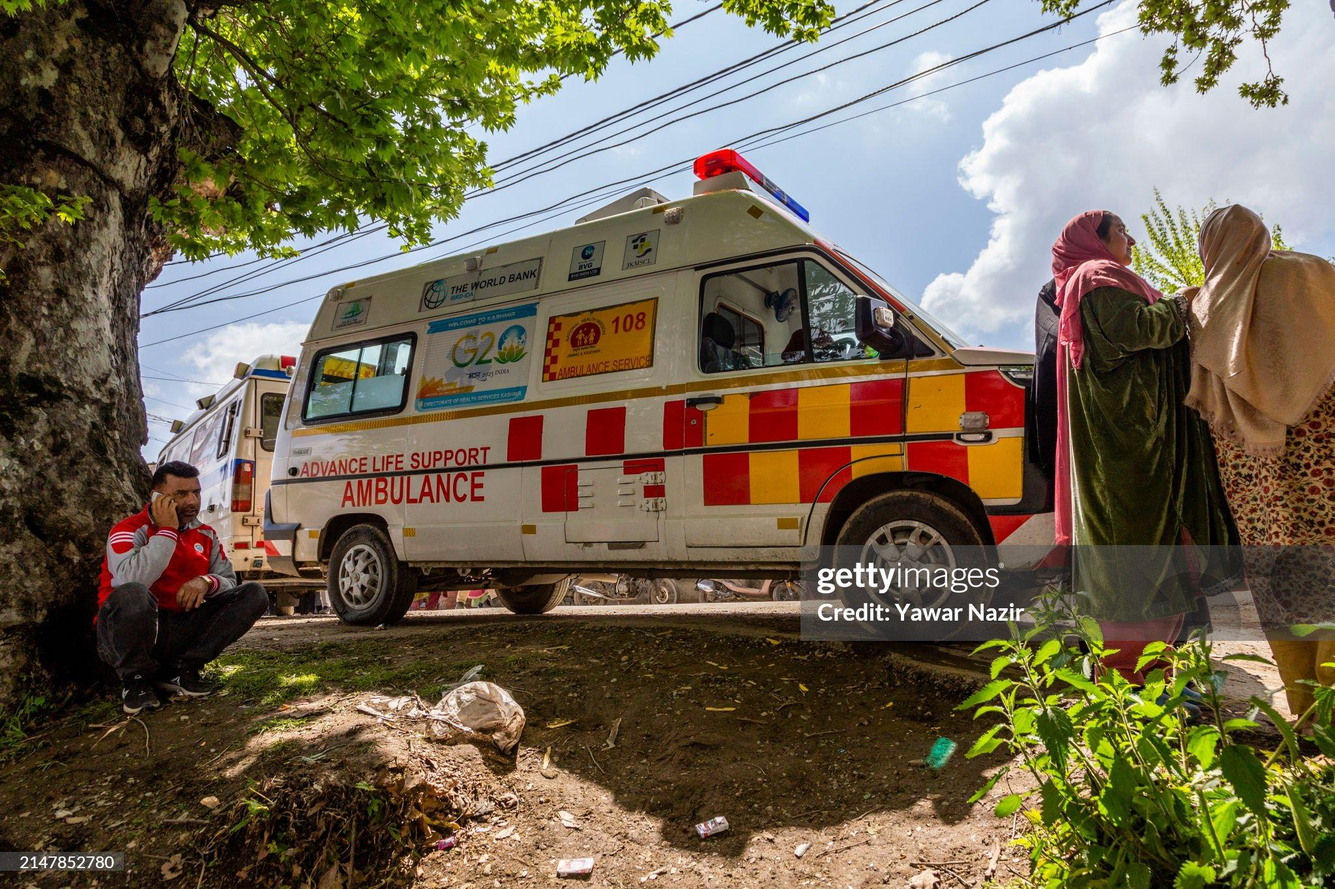ambulance: (290, 290, 680, 554)
